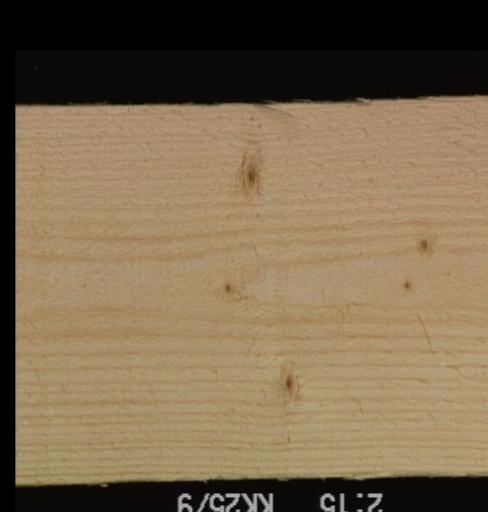small_knot: (275, 364, 302, 404), (409, 233, 433, 257), (217, 276, 238, 301), (396, 272, 416, 296)
sound_knot: (233, 148, 268, 198)
